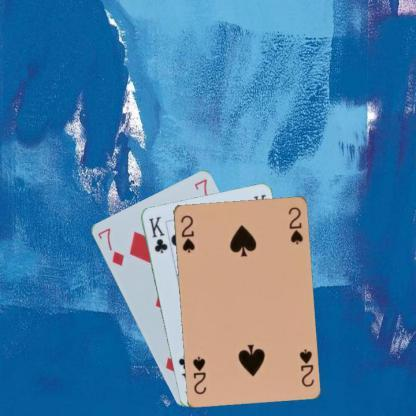2s: (296, 346, 315, 388), (178, 212, 196, 254)
7d: (94, 224, 126, 268)
Kc: (146, 213, 169, 254)
